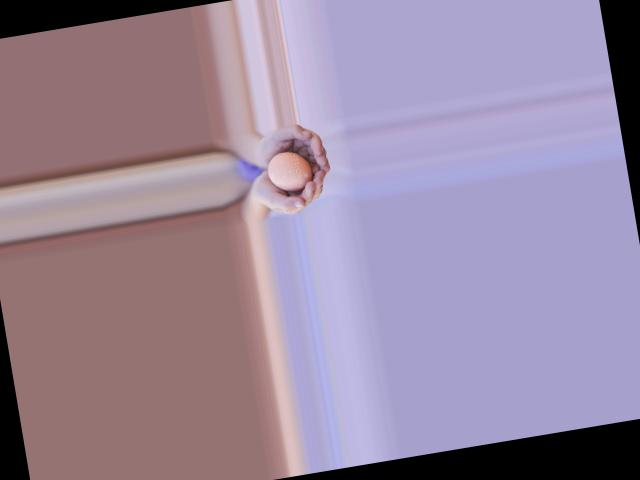egg: (264, 147, 314, 194)
